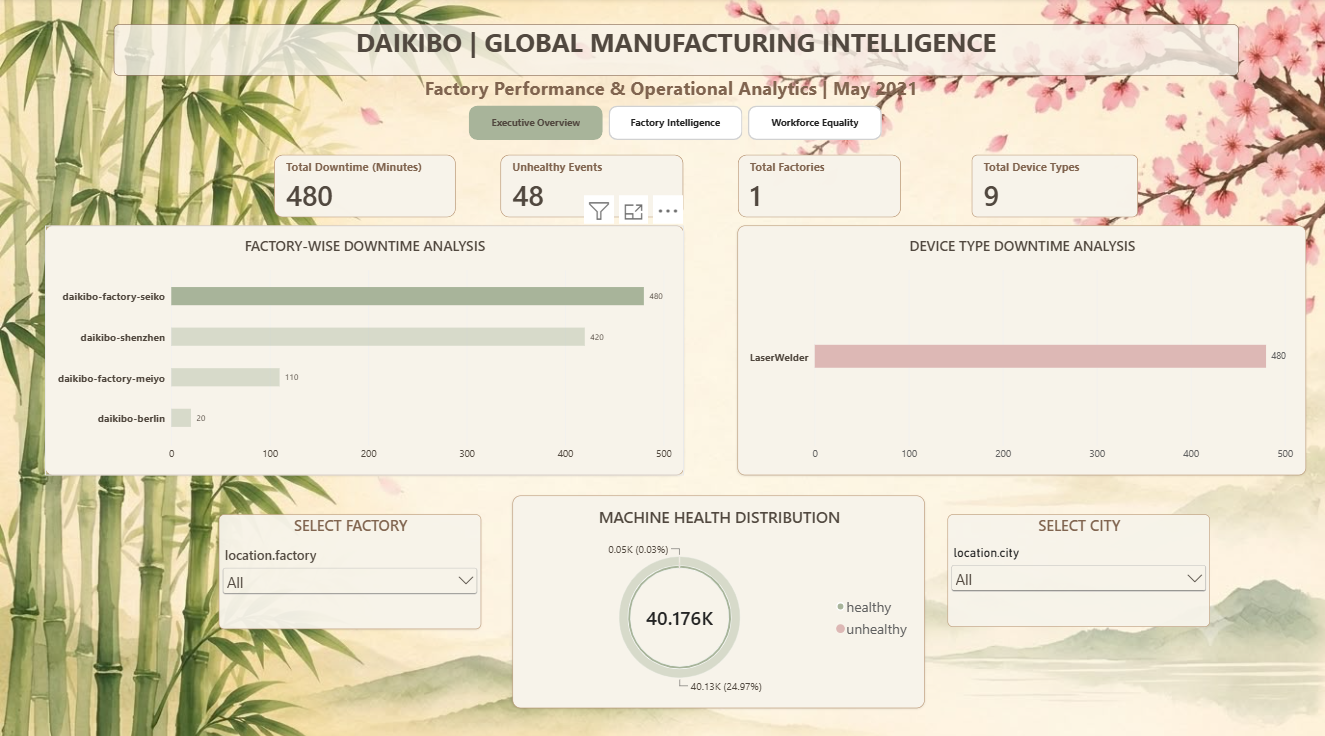

The dashboard page shown, as its layout file describes it:
{"tool":"powerbi","page":{"name":"Executive Overview","canvas":[1920,1080],"ordinal":0},"visuals":[{"type":"textbox","box":[10,0,280,280],"z":0},{"type":"textbox","box":[10,290,280,280],"z":1000},{"type":"textbox","box":[164.7,38,1628.7,74.2],"z":2000},{"type":"textbox","box":[23.5,112.2,1896.5,68.8],"z":3000},{"type":"cardVisual","fields":{"Data":["Query (3).Total Downtime (Minutes)","Query (3).Total Downtime (Minutes)"]},"box":[396.3,226.2,264.2,92.3],"z":4000},{"type":"cardVisual","fields":{"Data":["Query (3).Unhealthy Events"]},"box":[723.9,226.2,266,92.3],"z":5000},{"type":"cardVisual","fields":{"Data":["Query (3).Total Factories"]},"box":[1067.7,226.2,237.1,92.3],"z":6000},{"type":"cardVisual","fields":{"Data":["Query (3).Total Device Types","Query (3).Total Device Types"]},"box":[1406.1,226.2,242.5,92.3],"z":7000},{"type":"clusteredBarChart","title":"FACTORY-WISE DOWNTIME ANALYSIS","fields":{"Category":["Query (3).location.factory"],"Y":["Query (3).Total Downtime (Minutes)"]},"box":[65.1,329.4,924.7,361.9],"z":8000},{"type":"clusteredBarChart","title":"DEVICE TYPE DOWNTIME ANALYSIS","fields":{"Category":["Query (3).deviceType"],"Y":["Query (3).Total Downtime (Minutes)"]},"box":[1067.7,329.4,823.4,361.9],"z":9000},{"type":"slicer","title":"SELECT FACTORY","fields":{"Values":["Query (3).location.factory"]},"box":[316.7,747.4,380,166.5],"z":10000},{"type":"slicer","title":"SELECT CITY","fields":{"Values":["Query (3).location.city"]},"box":[1371.7,747.4,380,162.9],"z":11000},{"type":"donutChart","title":"MACHINE HEALTH DISTRIBUTION ","fields":{"Category":["Query (3).data.status"],"Y":["CountNonNull(Query (3).deviceID)"]},"box":[742,720.2,597.2,307.6],"z":12000},{"type":"pageNavigator","box":[678.6,155.6,600,50],"z":13000}]}

Visuals, with their boxes in screenshot pixels (x1, y1, x2, y2), scaled from the page's 1920x1080 canvas onto the 1325x736 screenshot:
textbox: 7 0 200 191
textbox: 7 198 200 388
textbox: 114 26 1238 76
textbox: 16 76 1324 123
cardVisual - Query (3).Total Downtime (Minutes) x Query (3).Total Downtime (Minutes): 273 154 456 217
cardVisual - Query (3).Unhealthy Events: 500 154 683 217
cardVisual - Query (3).Total Factories: 737 154 900 217
cardVisual - Query (3).Total Device Types x Query (3).Total Device Types: 970 154 1138 217
"FACTORY-WISE DOWNTIME ANALYSIS" clusteredBarChart: 45 224 683 471
"DEVICE TYPE DOWNTIME ANALYSIS" clusteredBarChart: 737 224 1305 471
"SELECT FACTORY" slicer: 219 509 481 623
"SELECT CITY" slicer: 947 509 1209 620
"MACHINE HEALTH DISTRIBUTION " donutChart: 512 491 924 700
pageNavigator: 468 106 882 140
